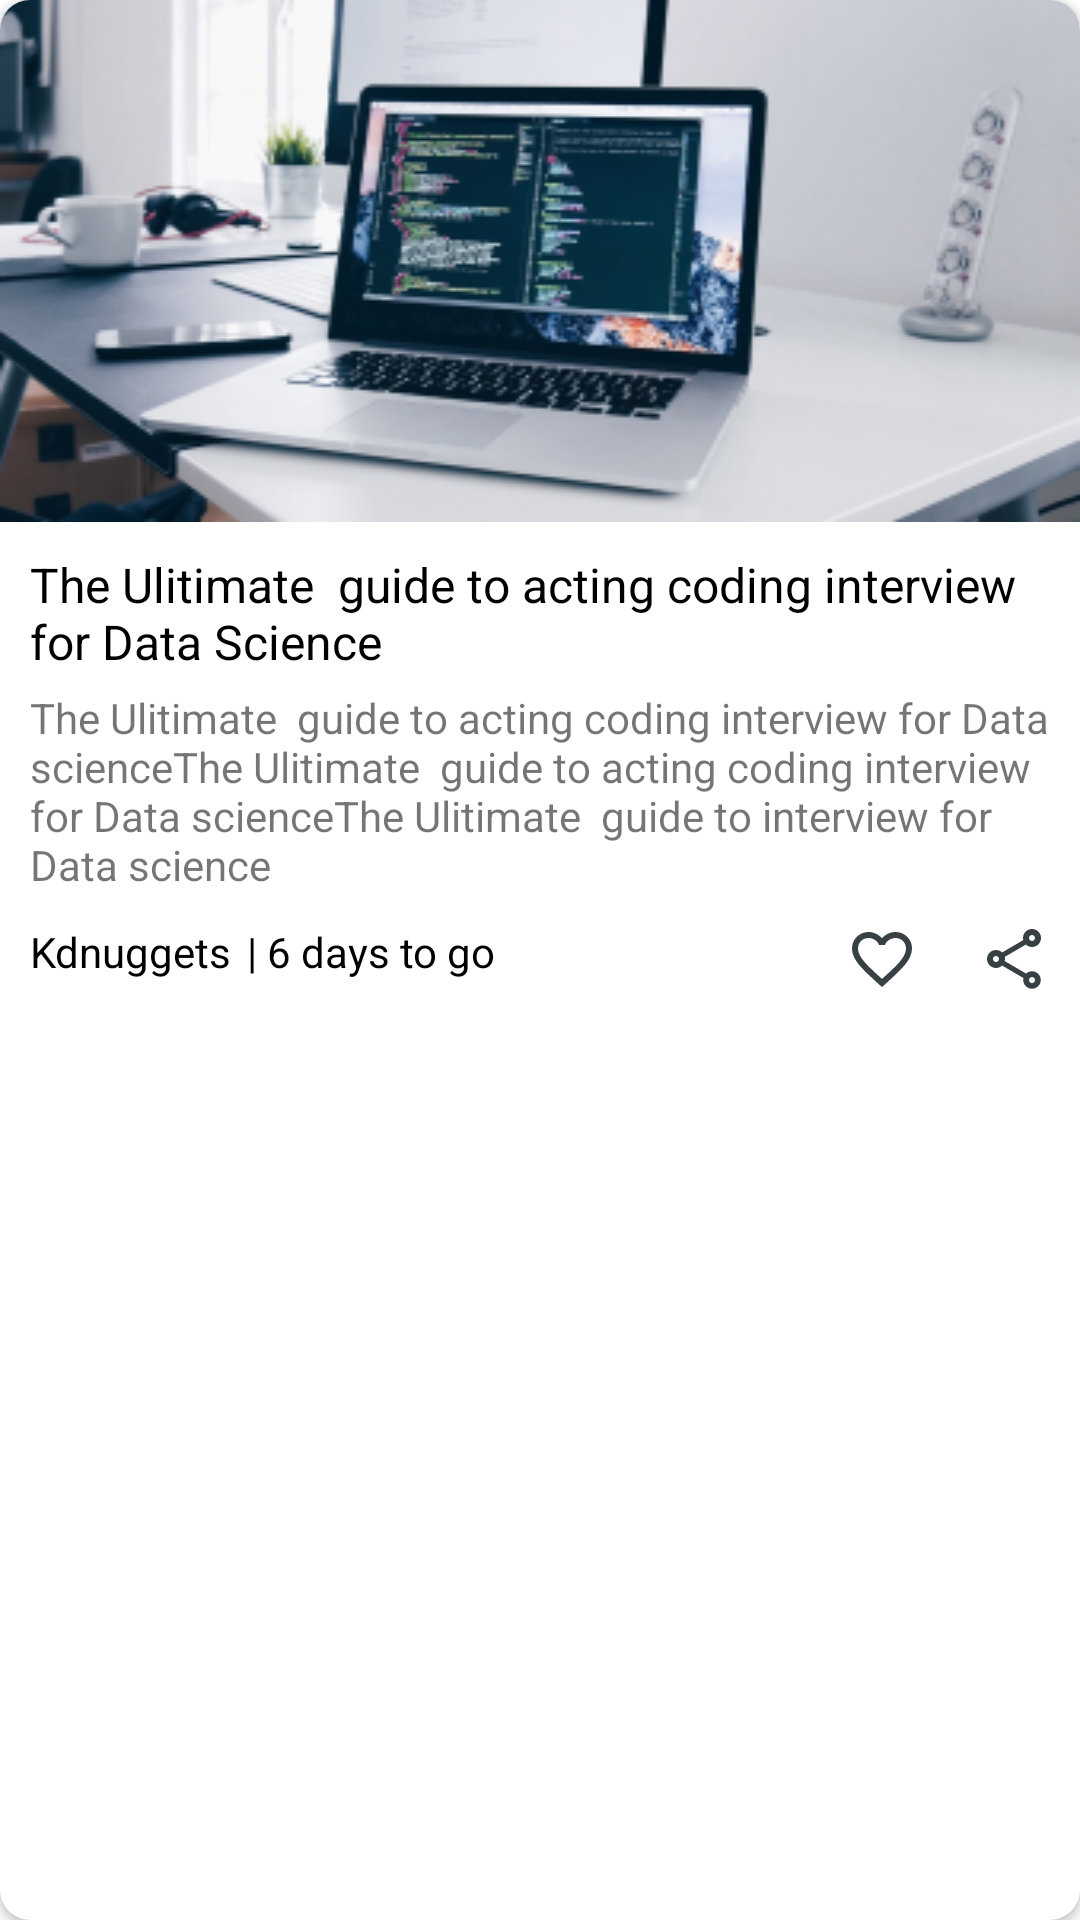

Icons on this 1080px×1920px Android screen, each with its box as box(x1, y1, x2, y2):
favourite: box(852, 932, 912, 987)
share: box(987, 929, 1041, 989)
